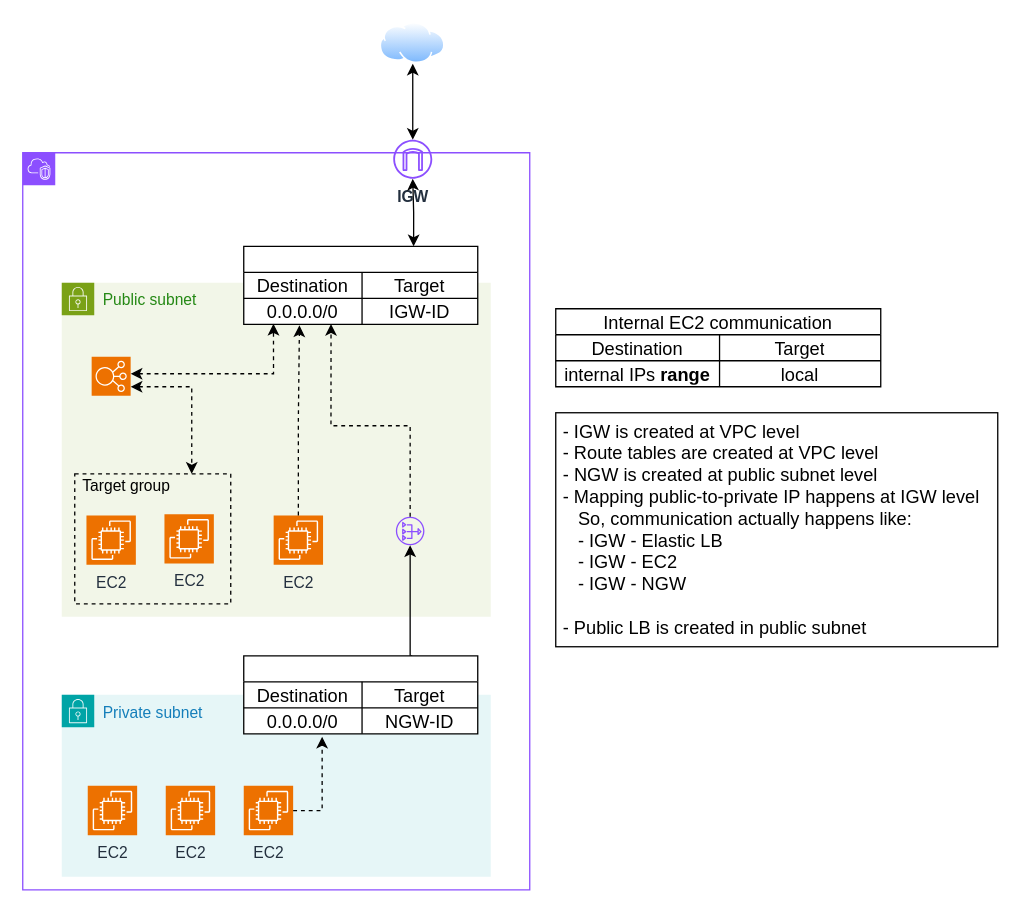
Some shapes in this 1020 by 913 pixel diagram are drawn without their labels. Here are the shapes that lost their labels. From the top down, the box of each, then its label:
(380, 22, 445, 63): Internet
(242, 245, 478, 324): Public subnet route table
(90, 356, 131, 396): Elastic LB
(21, 151, 530, 890): VPC
(395, 516, 424, 545): NGW (Elastic IP)
(242, 655, 478, 734): Private subnet route table
